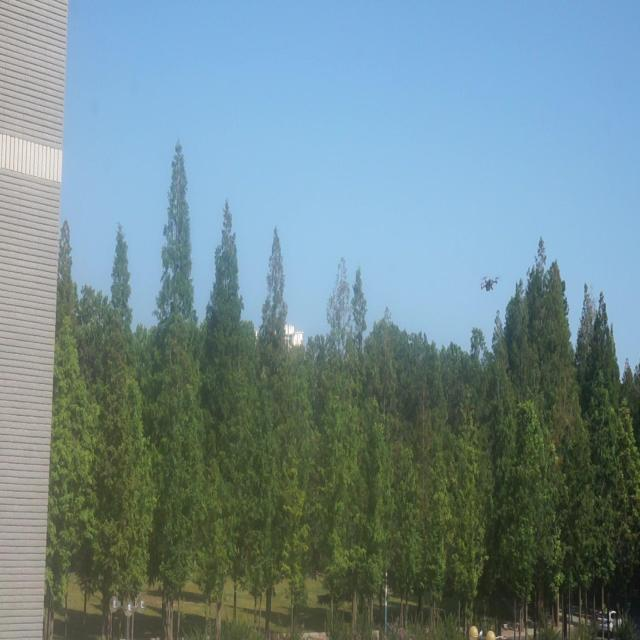drone: (479, 268, 501, 296)
